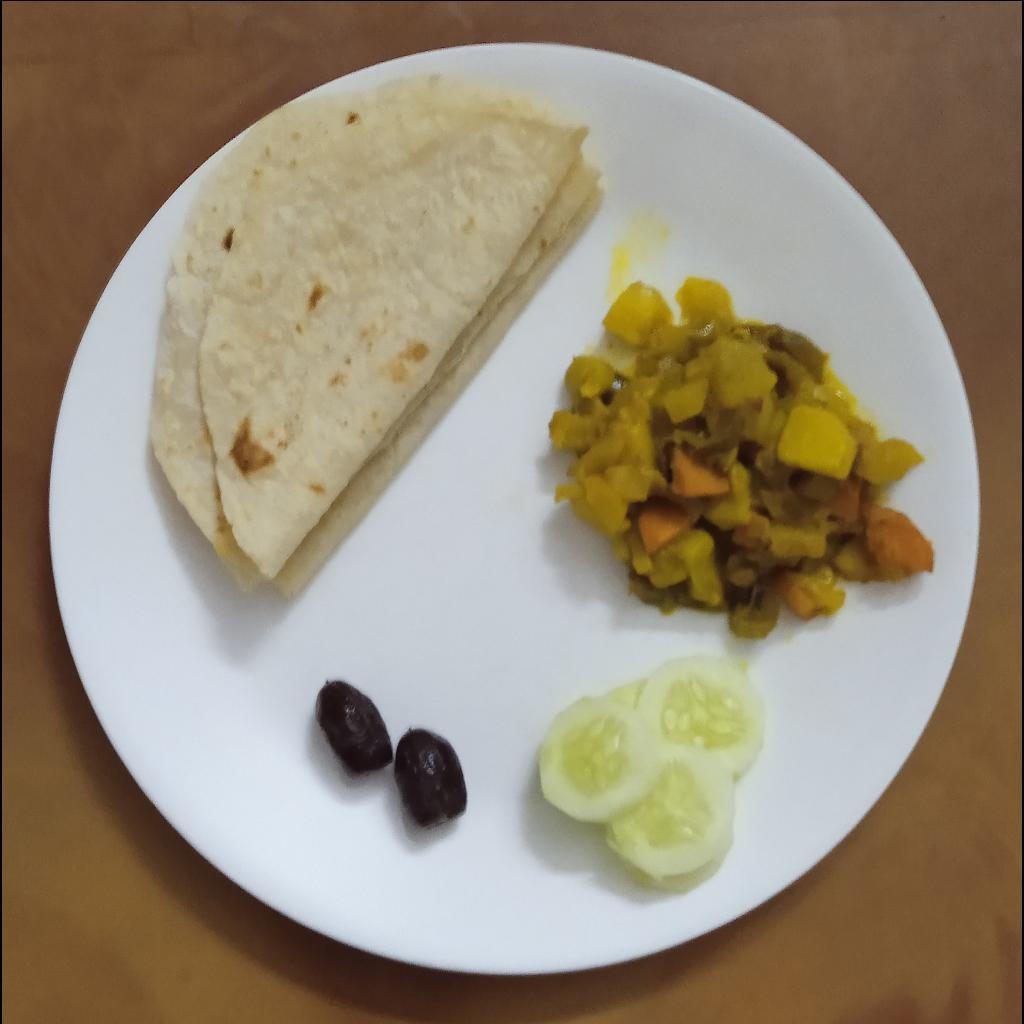cucumber: (540, 655, 764, 892)
dates: (316, 683, 469, 831)
ruti: (150, 73, 605, 604)
vegetable: (550, 280, 936, 644)
